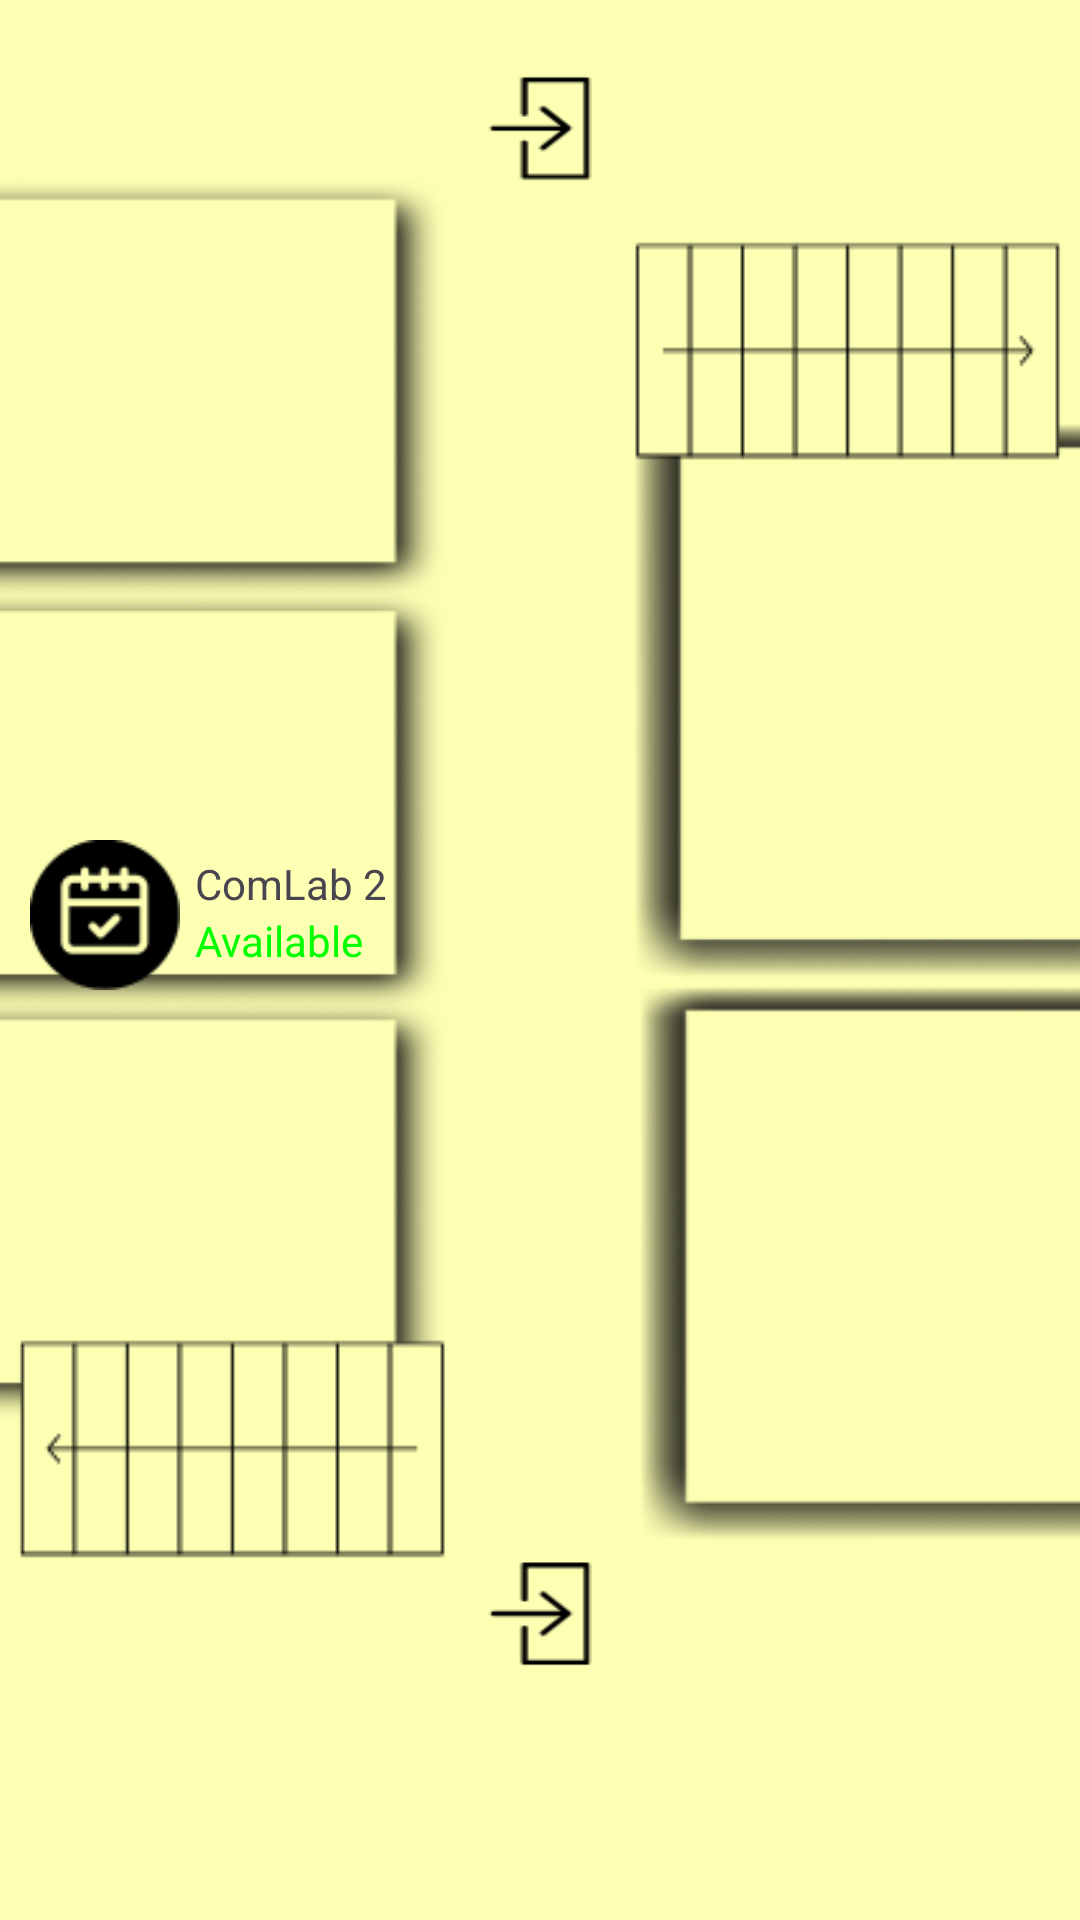

Icons on this 1080x1920 Android screen, each with its box as (x1, y1, x2, y2):
schedule: (30, 840, 180, 990)
